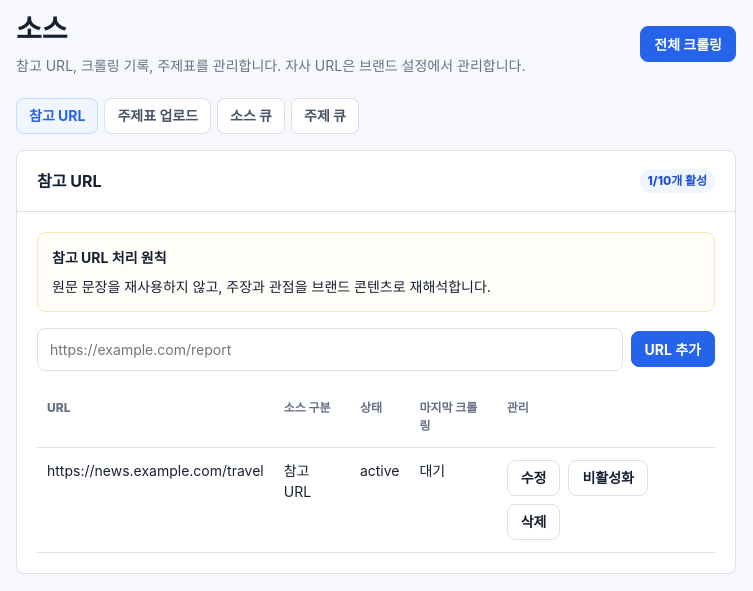
Scenario: SourcesPage › shows topic queue rows from the API
What coordinates should you click on to do the following:
click the tab "주제 큐"
I would click on:
 (325, 116)
Its box is [291,98,359,134].
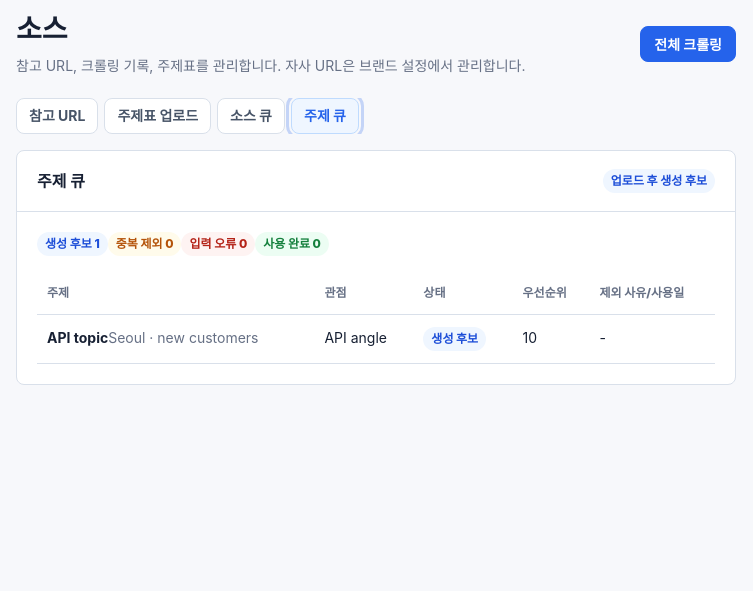
expect the text "API topic" is shown: met, box [47,329,108,346]
expect the text "생성 후보" is shown: met, box [423,327,486,351]
expect the column heading "주제" is shown: met, box [37,272,314,314]
